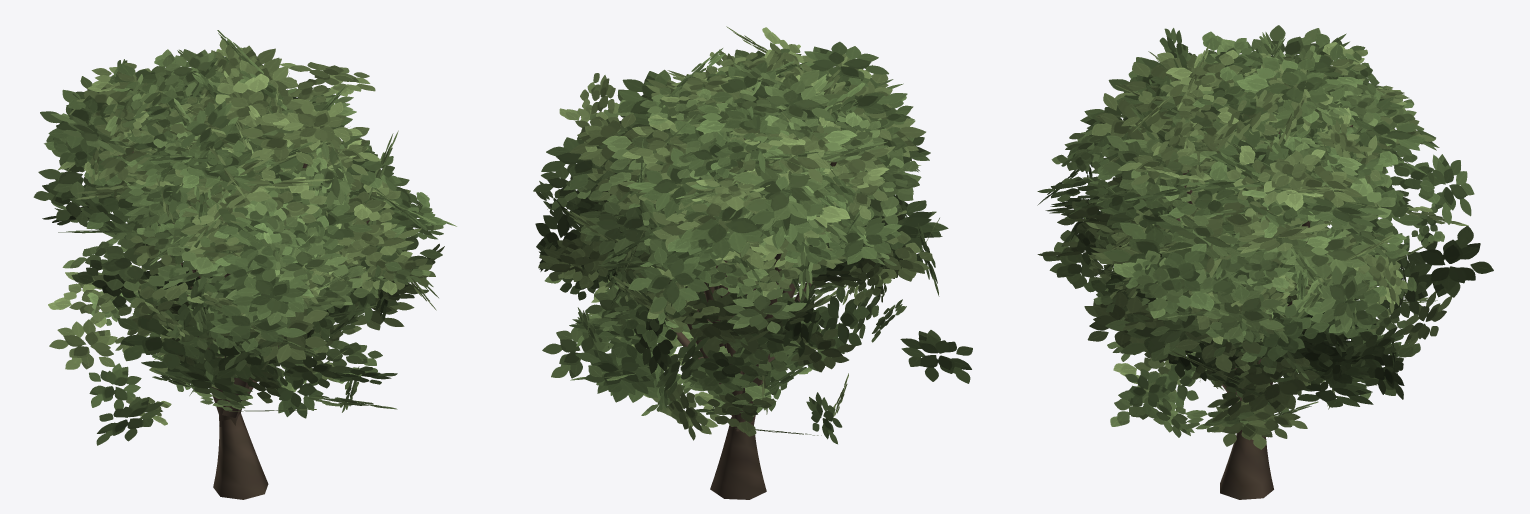
File: columnar_1.glb
3 renders of one model, left to right at view 1: azimuth 30°, elevation 25°; view 2: azimuth 150°, elevation 25°; view 3: azimuth 270°, elevation 25°, orthographic. The views are drawn at different scales.
Visible parts, largest first — view 1: columnar_1; view 2: columnar_1; view 3: columnar_1.
Part boxes in pixels (x1,y1,x2,y2): columnar_1: (33,30,456,499); columnar_1: (533,26,972,499); columnar_1: (1037,25,1493,499).
Size of the model in its own units: 0.9254 by 1 by 1.
Materials: 2 (1 with a texture image).
